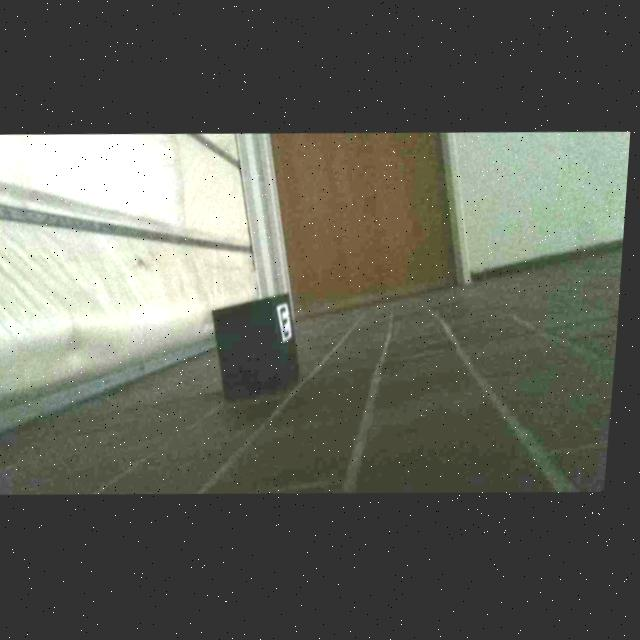E: (284, 308, 295, 339)
